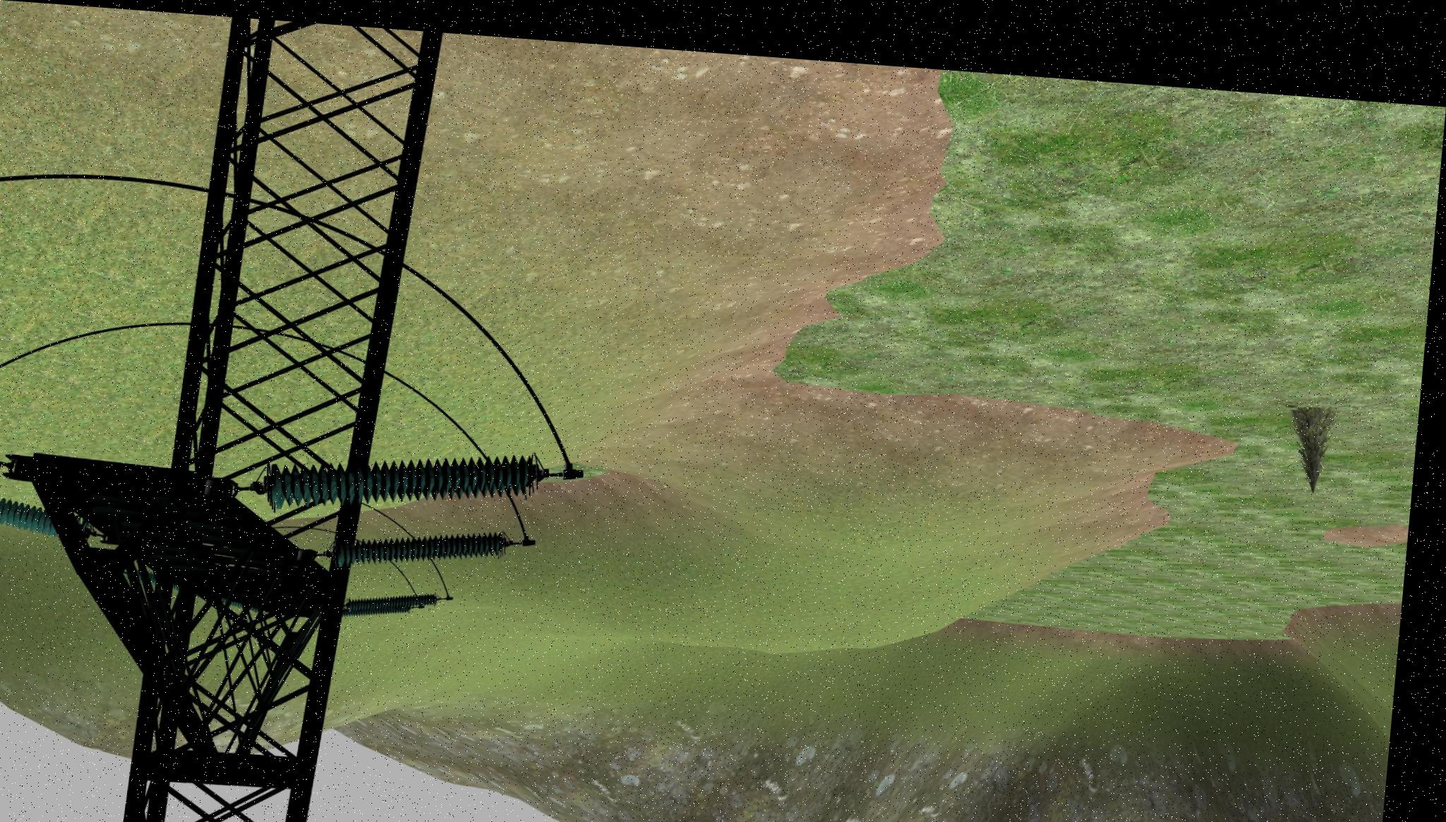tower: (0, 5, 456, 822)
